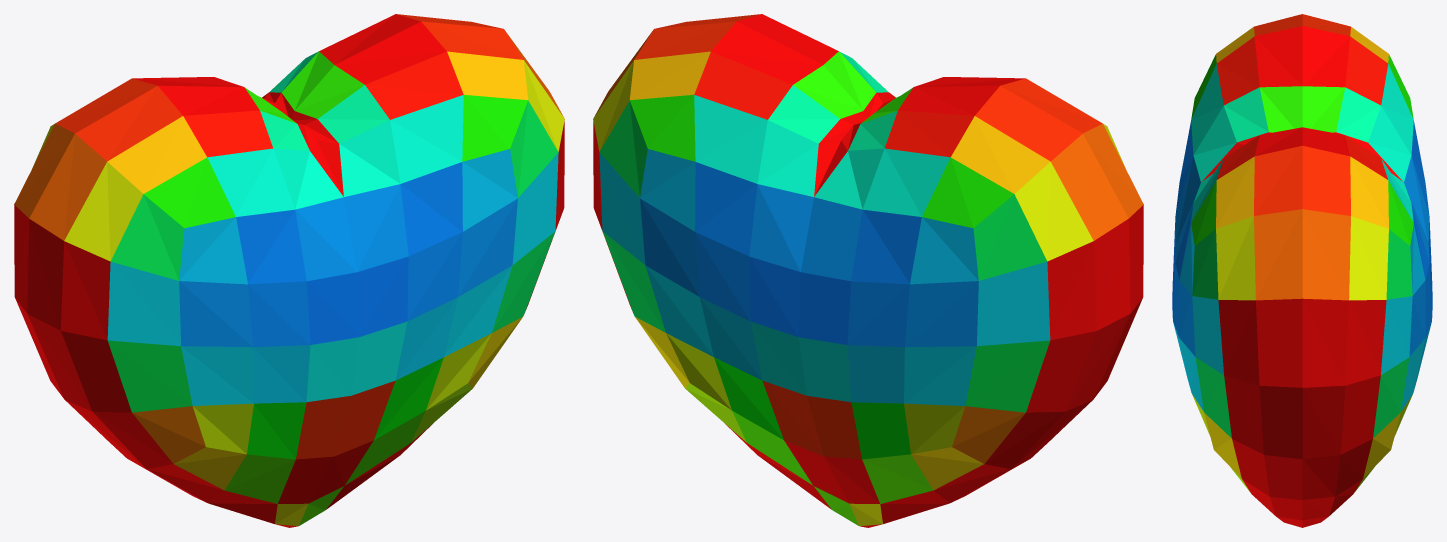
Rendered from heart_no_opt_quality.obj.
The picture shows the model from 3 angles, left to right: view 1: azimuth 30°, elevation 25°; view 2: azimuth 150°, elevation 25°; view 3: azimuth 270°, elevation 25°; orthographic projection. The views are drawn at different scales.
Bounding box in the file's own units: 2.83 × 2.45 × 1.31.
